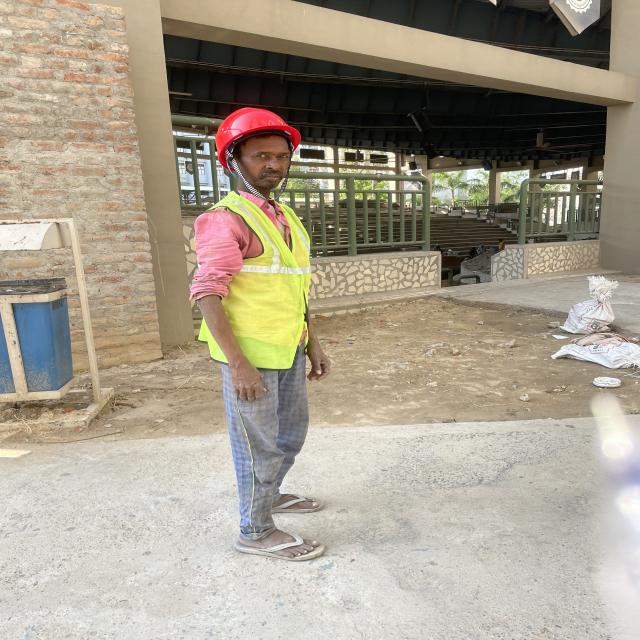safe: (194, 107, 332, 560)
